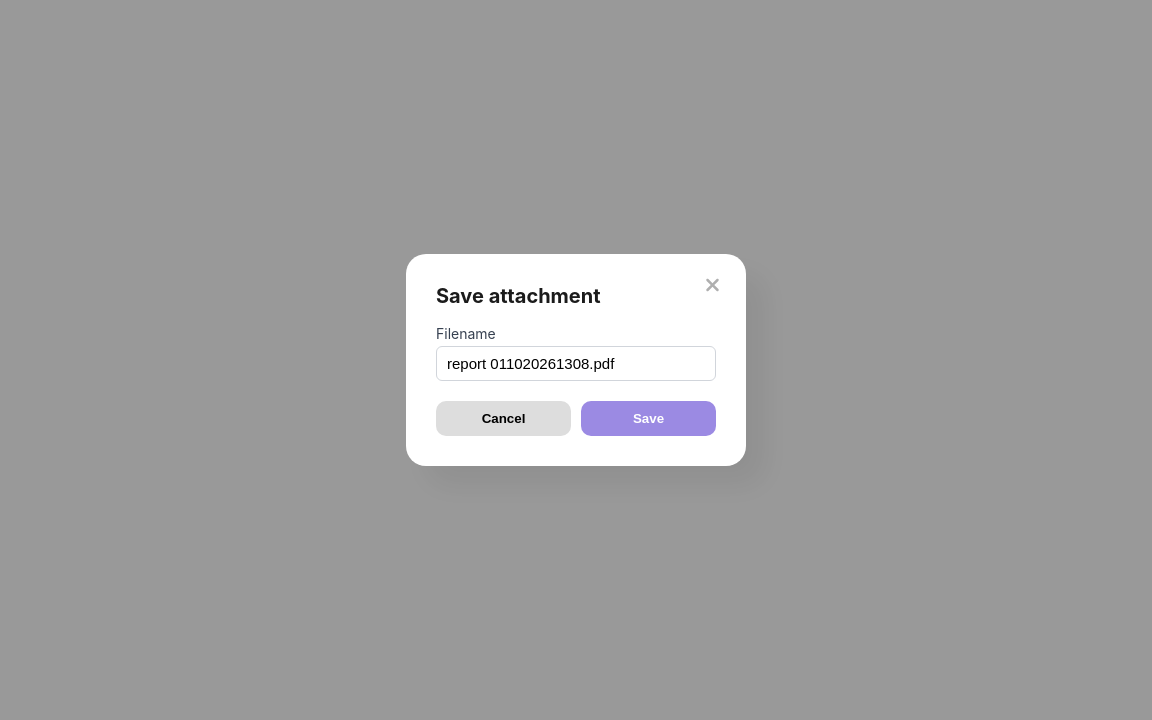
Test: F4: typing an empty filename shows the required-field error and disables Save
The width and height of the screenshot is (1152, 720).
Clear the field with test id "save-modal-filename-input": (576, 364) [436,346,716,381]
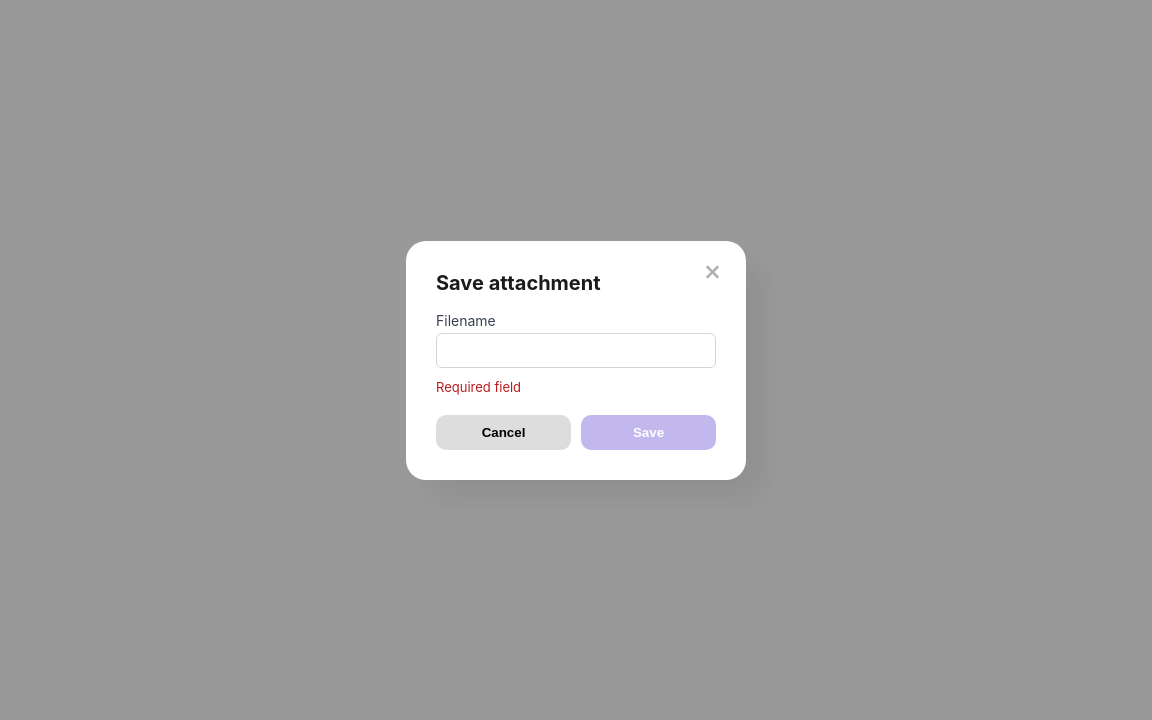
Expected: the message with test id "filename-validation-error" reads "Required field", [436,378,521,394]
